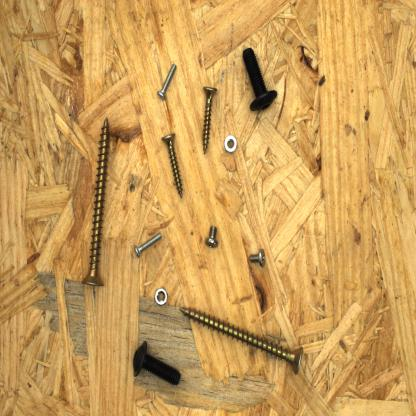screw: (178, 303, 305, 377), (80, 115, 111, 290), (240, 43, 282, 114), (130, 340, 184, 387), (162, 128, 184, 198), (199, 83, 219, 158), (156, 59, 180, 103), (132, 231, 164, 258), (248, 249, 268, 268), (205, 222, 219, 249)
